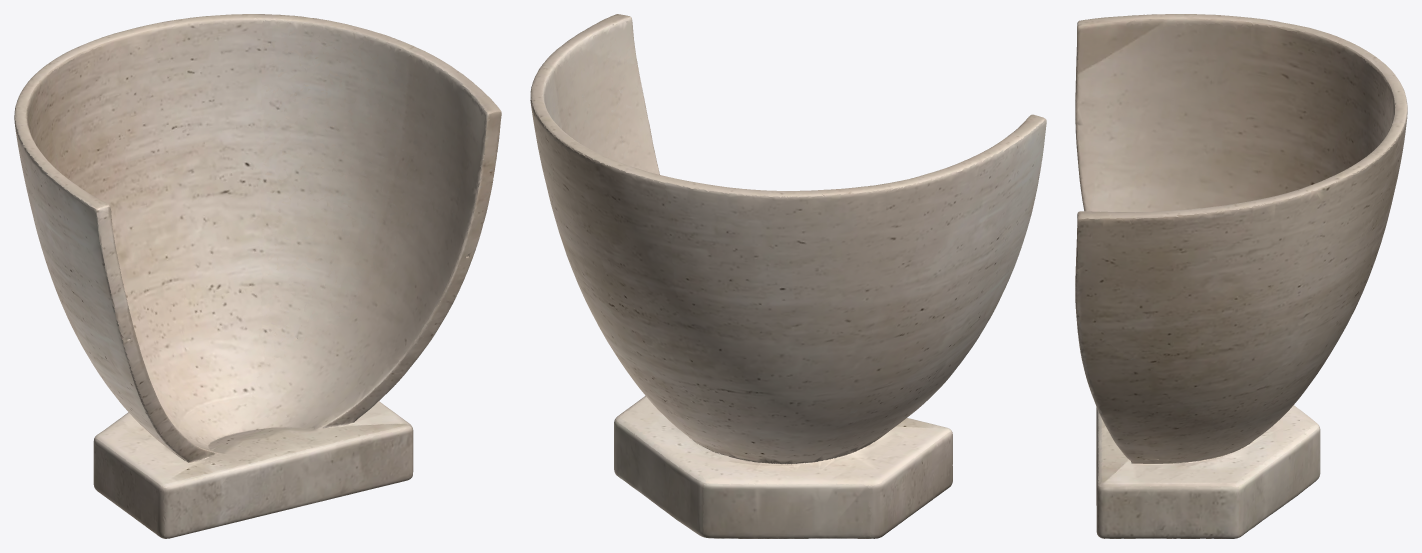
Rendered from a1-arc-wall.glb.
The picture shows the model from 3 angles, left to right: view 1: azimuth 30°, elevation 25°; view 2: azimuth 150°, elevation 25°; view 3: azimuth 270°, elevation 25°; orthographic projection. The views are drawn at different scales.
Parts seen in each view (by area): view 1: geometry_0; view 2: geometry_0; view 3: geometry_0.
Boxes of the visible parts, left/top/right/bottom form: geometry_0: left=14, top=14, right=501, bottom=538; geometry_0: left=530, top=14, right=1046, bottom=538; geometry_0: left=1075, top=14, right=1407, bottom=538.
Bounding box in the file's own units: 0.45 × 0.3849 × 0.3111.
1 material, 1 textured.
